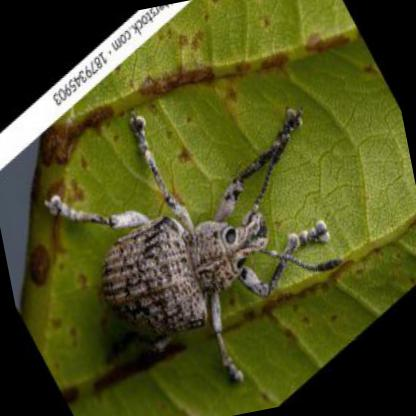ash weevil: (49, 109, 333, 377)
